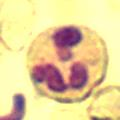neutrophil: (21, 22, 110, 104)
